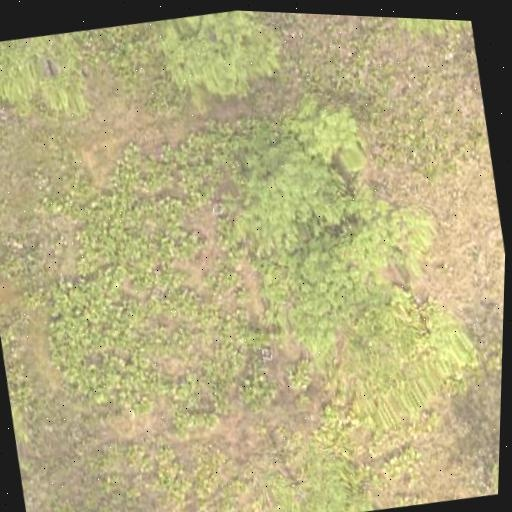tree-top: (184, 85, 392, 265), (144, 7, 299, 109), (249, 242, 375, 360), (340, 182, 450, 281), (0, 26, 97, 125), (385, 17, 474, 52)
